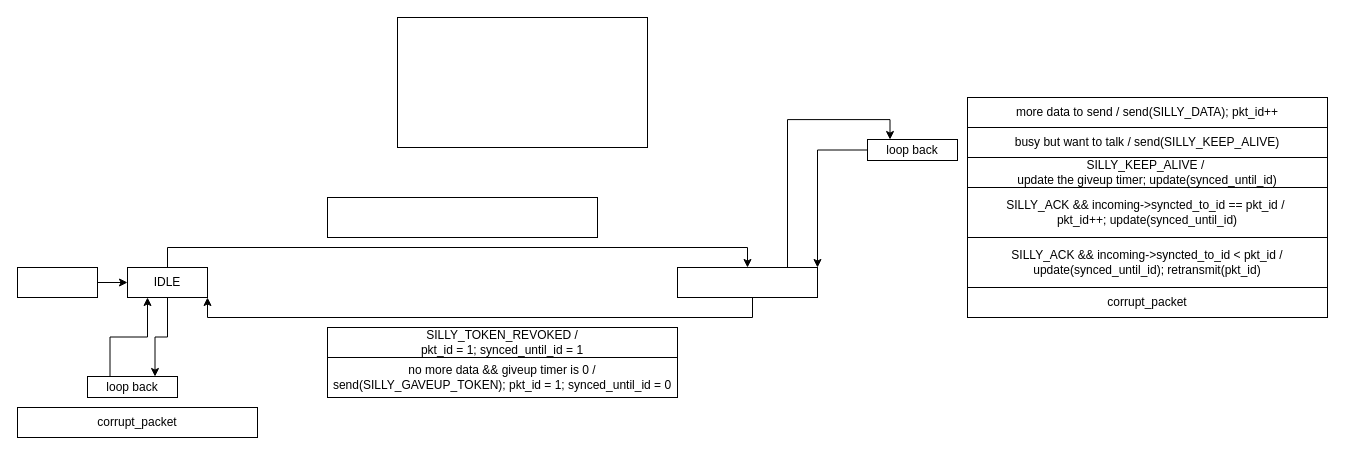
The diagram is 1345 pixels wide and 455 high, and some of its shapes have lost their labels. The centre of each missing label's shape, as x and y in pixels:
SILLY_USE_TOKEN / ack the token; update(synced_until_id): the point at 462,217
slave: the point at 522,82
start: the point at 57,282
TALKING_TO_MASTER: the point at 747,282
